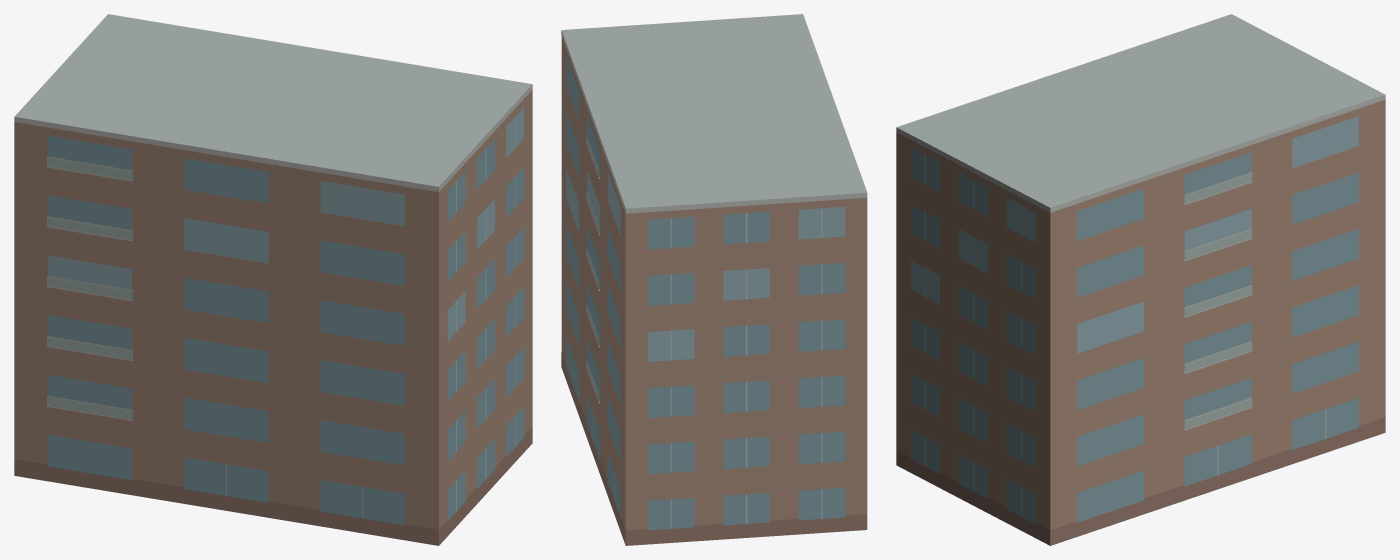
File: survey-upis-32726587.glb
The picture shows the model from 3 angles, left to right: view 1: azimuth 30°, elevation 25°; view 2: azimuth 150°, elevation 25°; view 3: azimuth 270°, elevation 25°; orthographic projection. The views are drawn at different scales.
Parts seen in each view (by area): view 1: survey-upis-32726587.tmp; view 2: survey-upis-32726587.tmp; view 3: survey-upis-32726587.tmp.
Part boxes in pixels (x1,y1,x2,y2): survey-upis-32726587.tmp: (14,14,532,545); survey-upis-32726587.tmp: (561,14,867,545); survey-upis-32726587.tmp: (896,14,1385,545).
Size of the model in its own units: 20.55 by 16.7 by 21.91.
